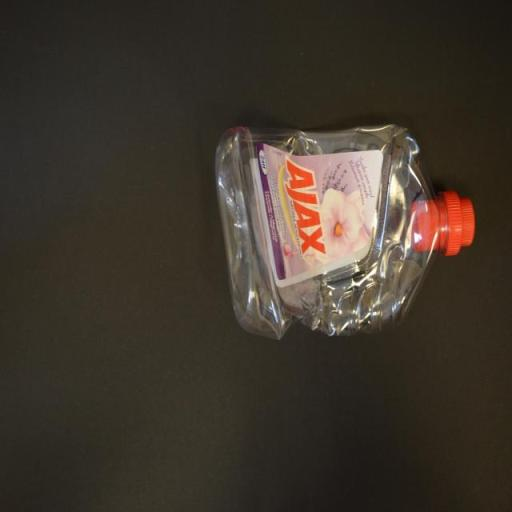plastic: (216, 125, 476, 342)
